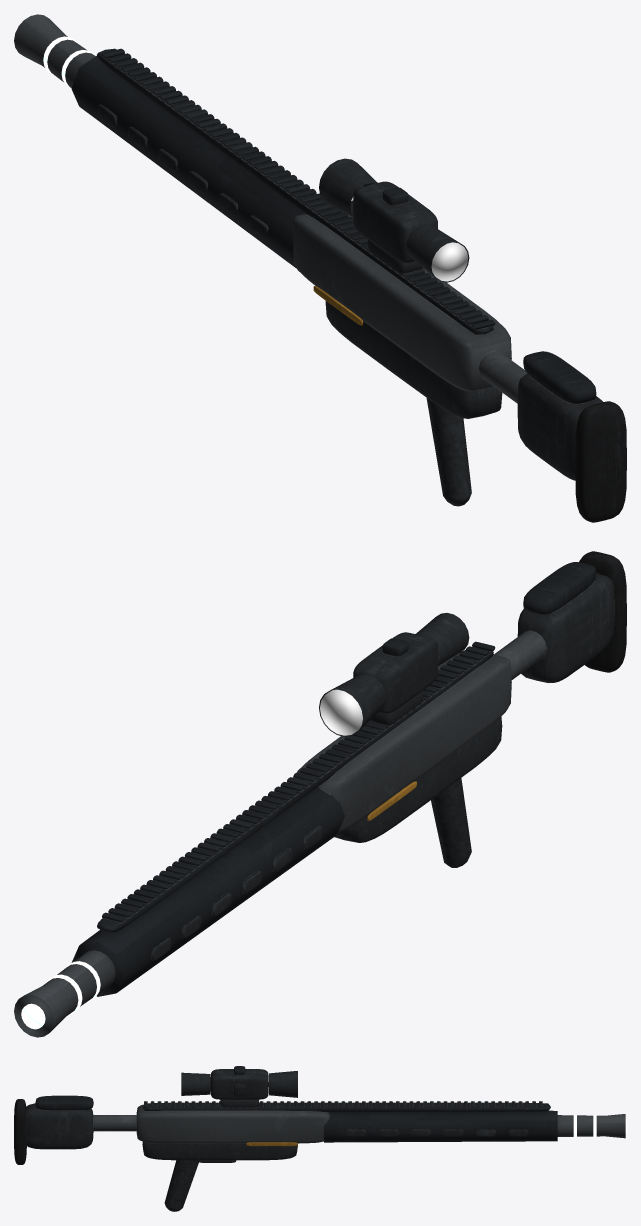
Rendered from mr6_body.glb.
3 renders of one model, top to bottom at view 1: azimuth 30°, elevation 25°; view 2: azimuth 150°, elevation 25°; view 3: azimuth 270°, elevation 25°, orthographic. The views are drawn at different scales.
Parts seen in each view (by area): view 1: mr6_body; view 2: mr6_body; view 3: mr6_body.
Part boxes in pixels (box(x1,y1,x2,y2)): mr6_body: box(14, 14, 626, 522); mr6_body: box(14, 551, 626, 1037); mr6_body: box(14, 1066, 626, 1211).
Size of the model in its own units: 0.0546 by 0.2439 by 0.945.
3 materials, 1 textured.
